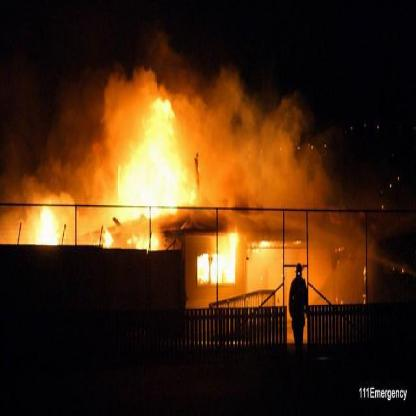fire: (10, 93, 258, 291)
